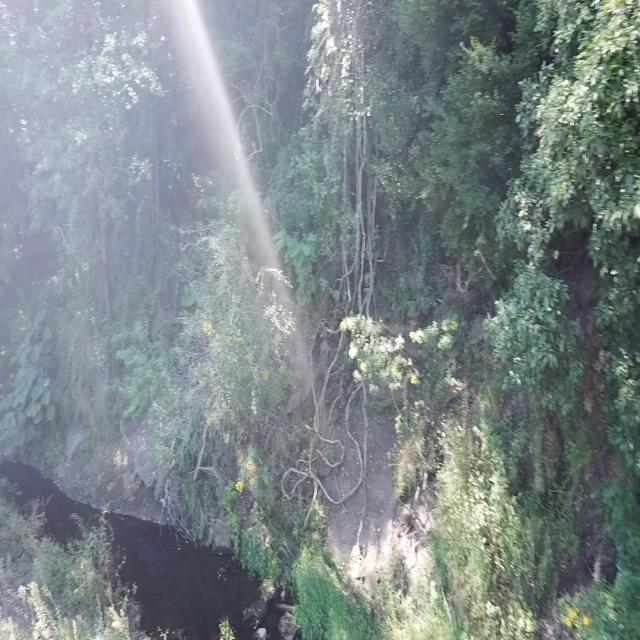Mysore-Thorn-Weed: (270, 224, 320, 268)
